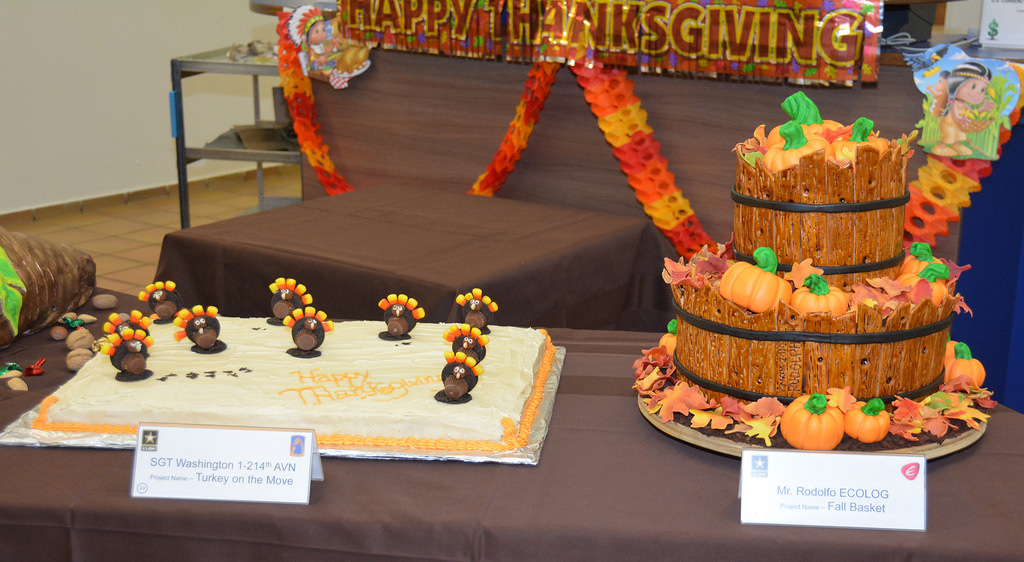cake: (620, 88, 1009, 452), (24, 272, 567, 458)
